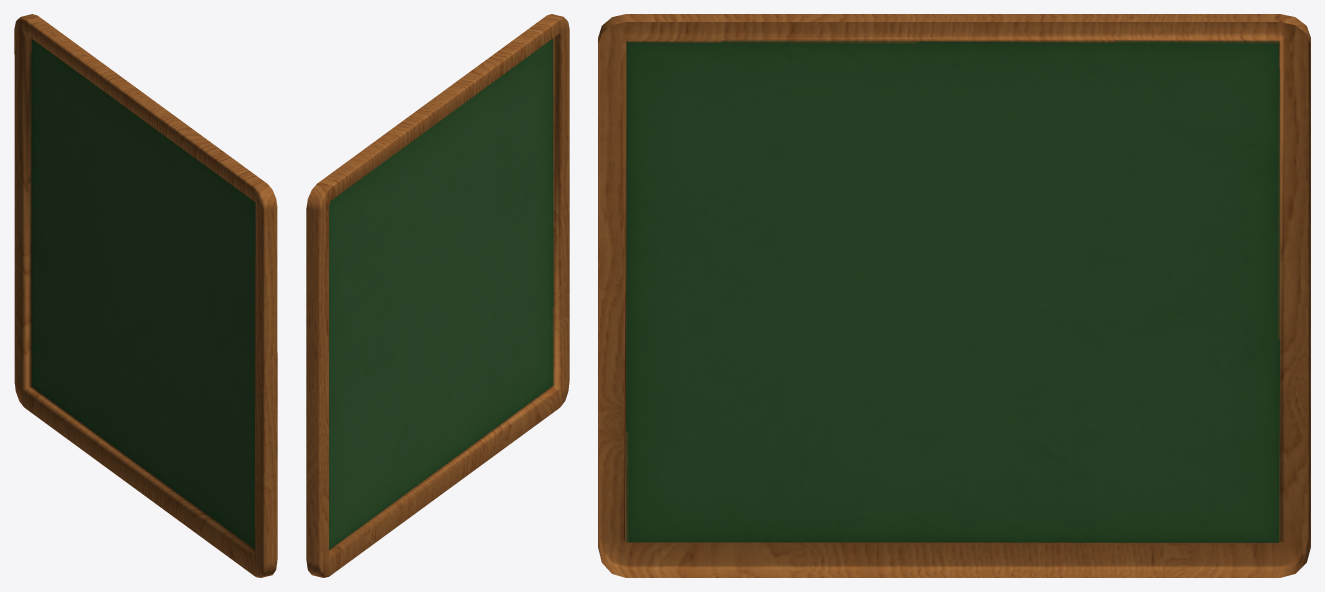
The model's file is BoardB.fbx.
The picture shows the model from 3 angles, left to right: view 1: azimuth 30°, elevation 25°; view 2: azimuth 150°, elevation 25°; view 3: azimuth 270°, elevation 25°; orthographic projection. The views are drawn at different scales.
Parts seen in each view (by area): view 1: BoardB; view 2: BoardB; view 3: BoardB.
Boxes of the visible parts, <box> form: BoardB: <box>14,14,277,577</box>; BoardB: <box>306,14,569,577</box>; BoardB: <box>598,14,1310,577</box>.
Bounding box in the file's own units: 3.65 × 99.47 × 116.
